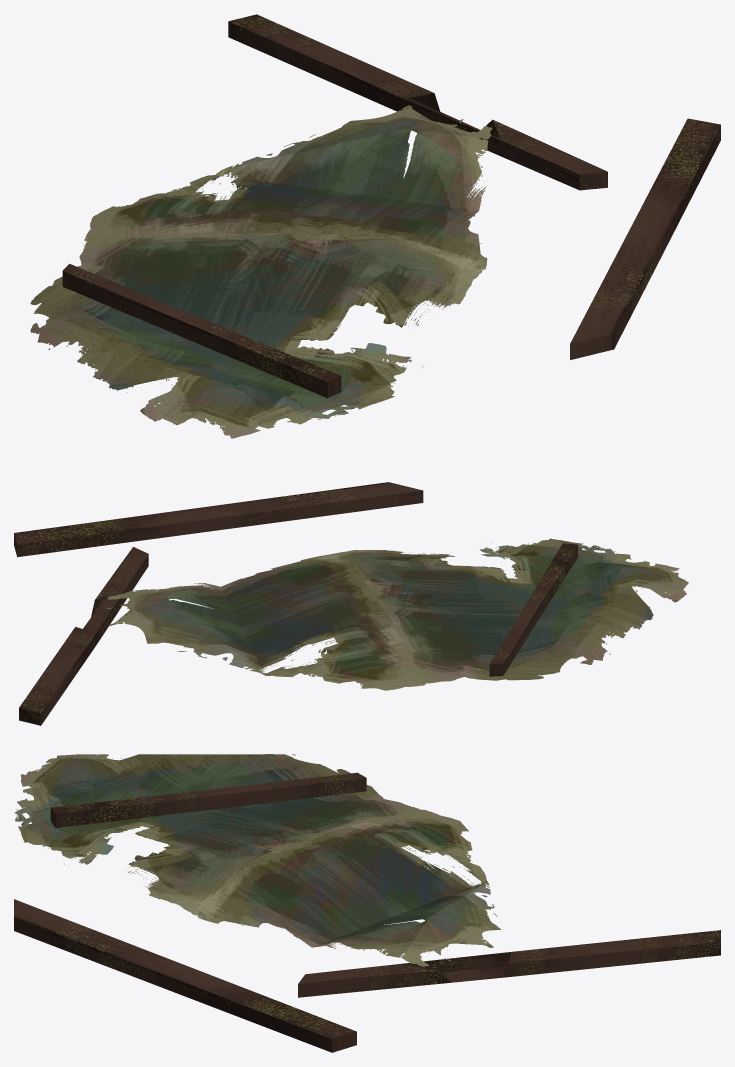
File: Tent03.fbx
3 renders of one model, top to bottom at view 1: azimuth 30°, elevation 25°; view 2: azimuth 150°, elevation 25°; view 3: azimuth 270°, elevation 25°, orthographic. The views are drawn at different scales.
Visible parts, largest first — view 1: Tent_broken03; view 2: Tent_broken03; view 3: Tent_broken03.
Boxes of the visible parts, x1,y1,x2,y2 form: Tent_broken03: [30, 14, 720, 438]; Tent_broken03: [14, 482, 688, 725]; Tent_broken03: [14, 754, 720, 1052].
Bounding box in the file's own units: 2.47 × 0.1109 × 2.47.
2 materials, 2 textured.
